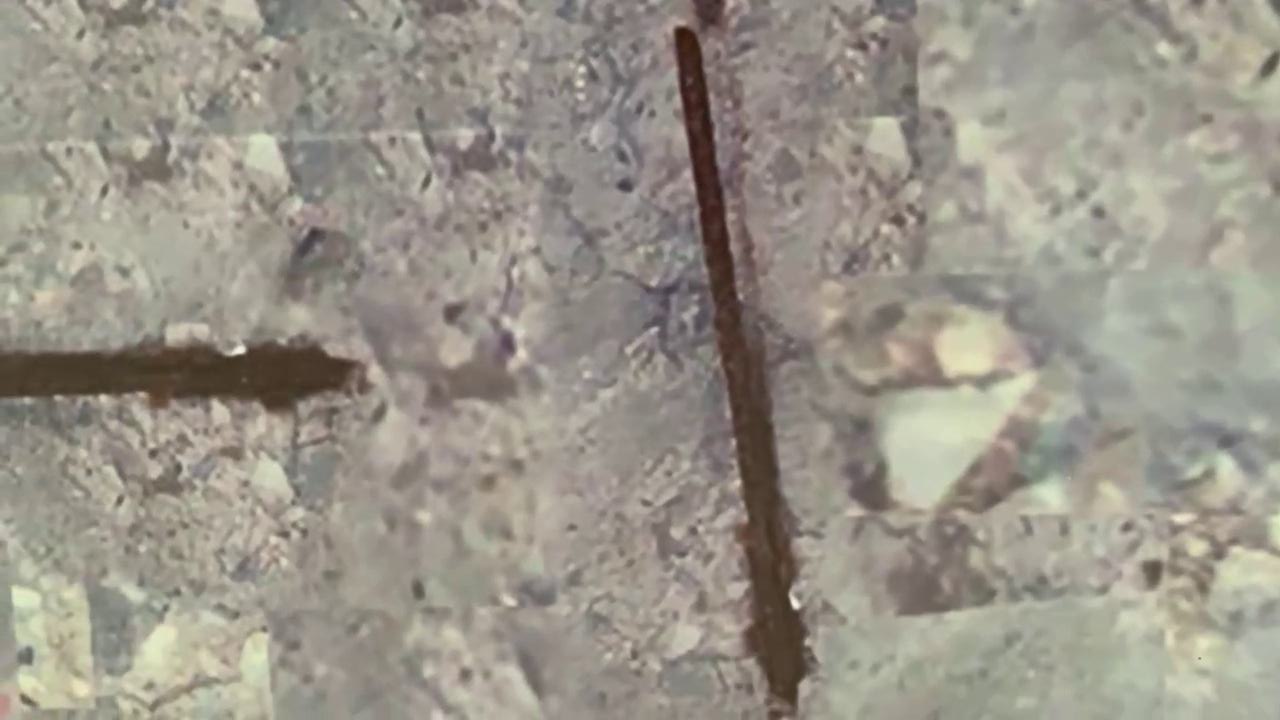Exposed reinforcement: (673, 25, 808, 720), (1, 330, 359, 415)
